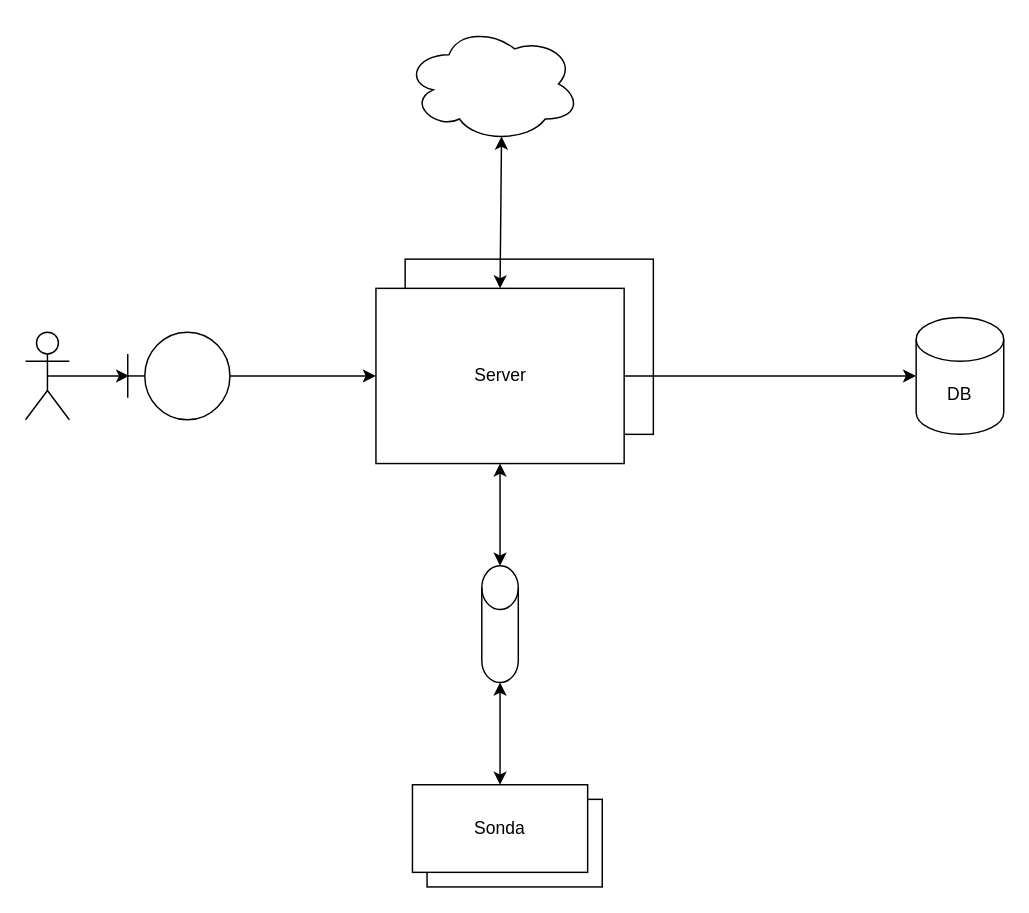
Some shapes in this 1029 by 913 pixel diagram are drawn without their labels. Here are the shapes that lost their labels. From the top down, the box of each, then its label:
(404, 24, 580, 142): Chrony
(24, 331, 69, 420): Actor
